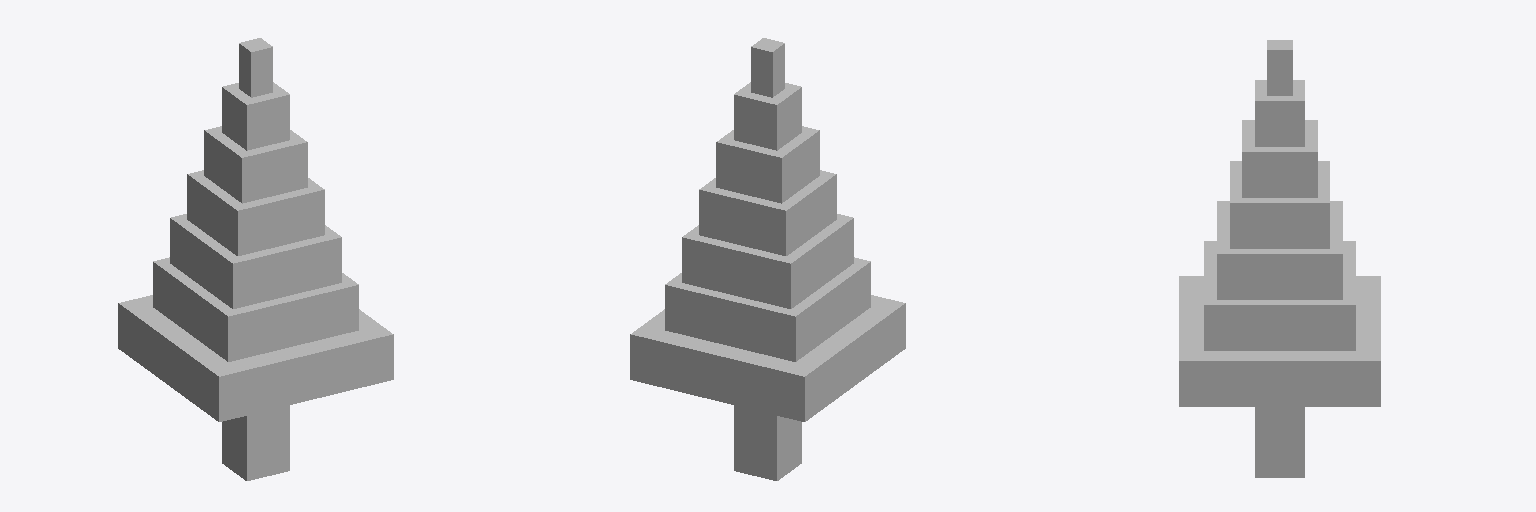
Rendered from tree.obj.
The picture shows the model from 3 angles: view 1: azimuth 30°, elevation 25°; view 2: azimuth 150°, elevation 25°; view 3: azimuth 270°, elevation 25°; orthographic projection.
Visible parts, largest first — view 1: object 1; view 2: object 1; view 3: object 1.
Part boxes in pixels (x1,y1,x2,y2): object 1: (118,38,393,480); object 1: (630,38,905,480); object 1: (1179,40,1380,477).
Size of the model in its own units: 1.6 by 3.7 by 1.6.